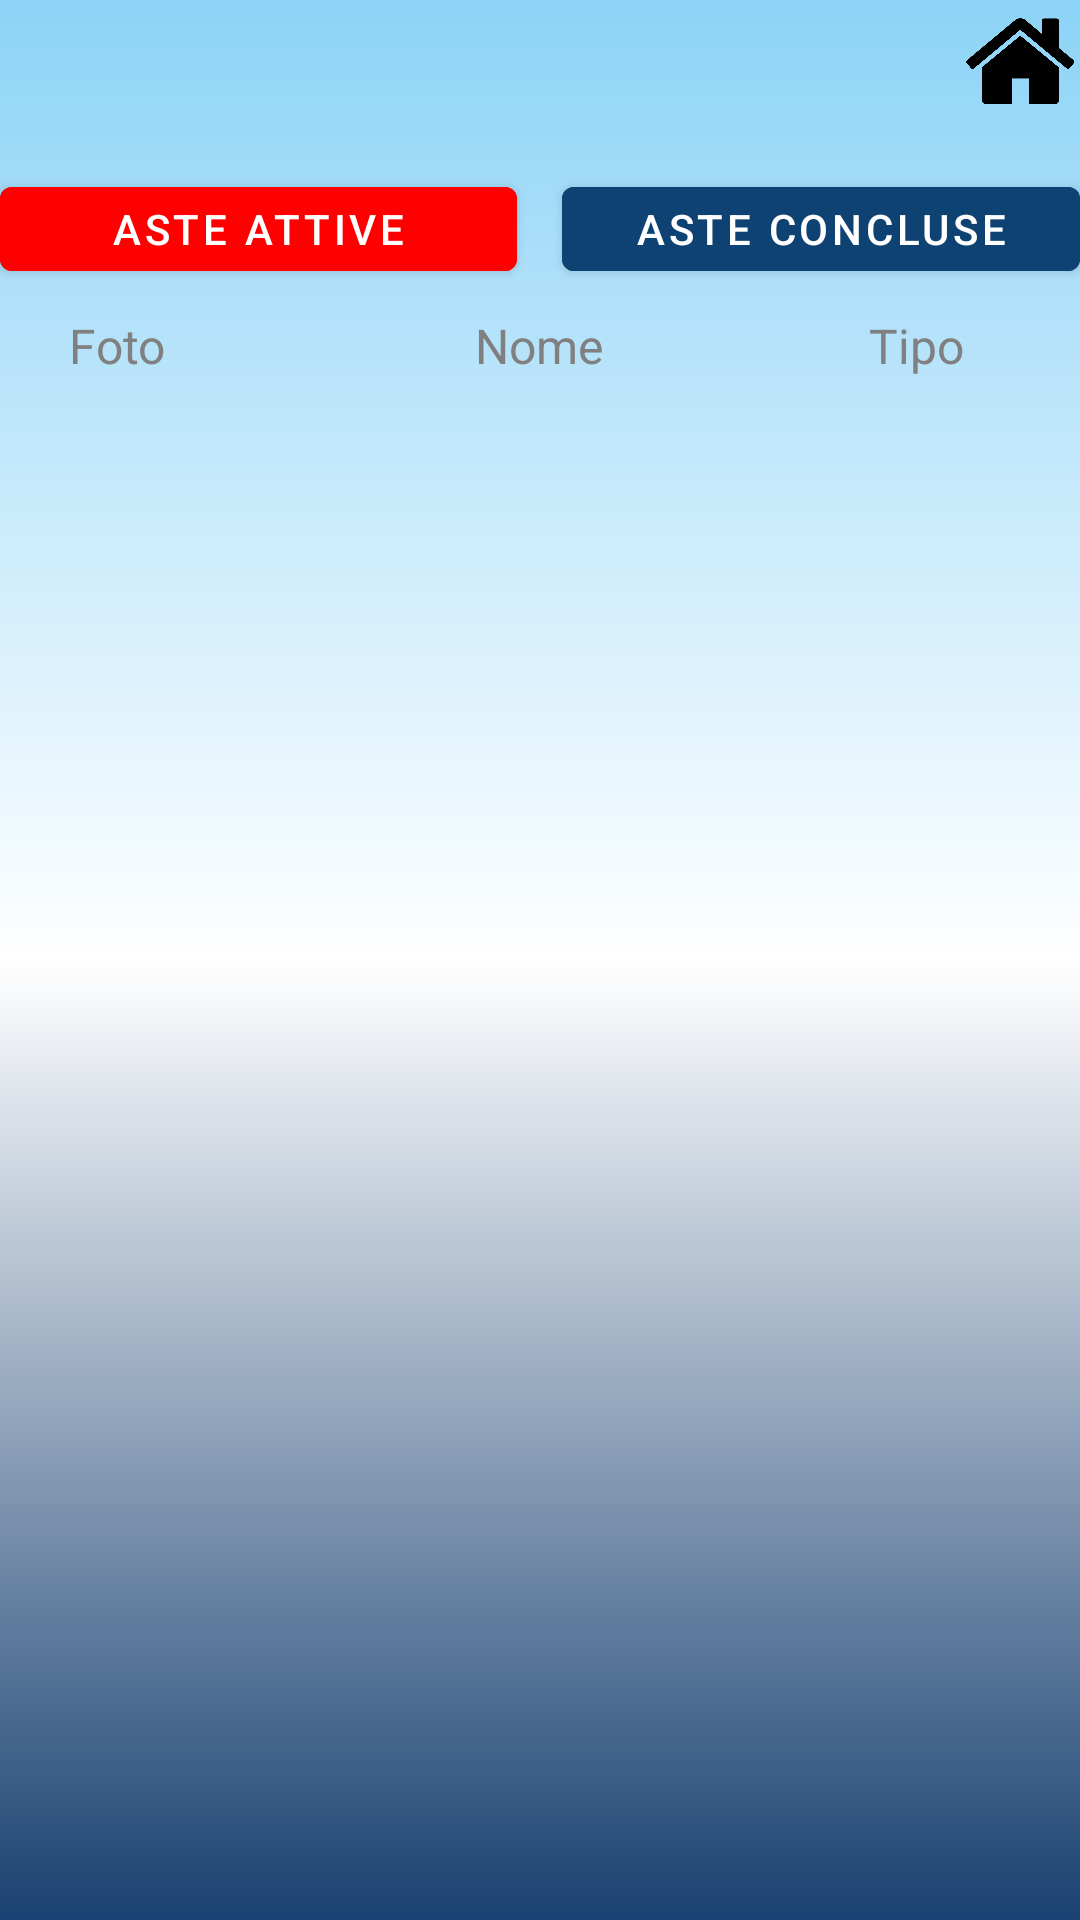

Point at icon controls on the screen. Image size 1080 × 1920, points as [x,y].
home: [1020,61]
